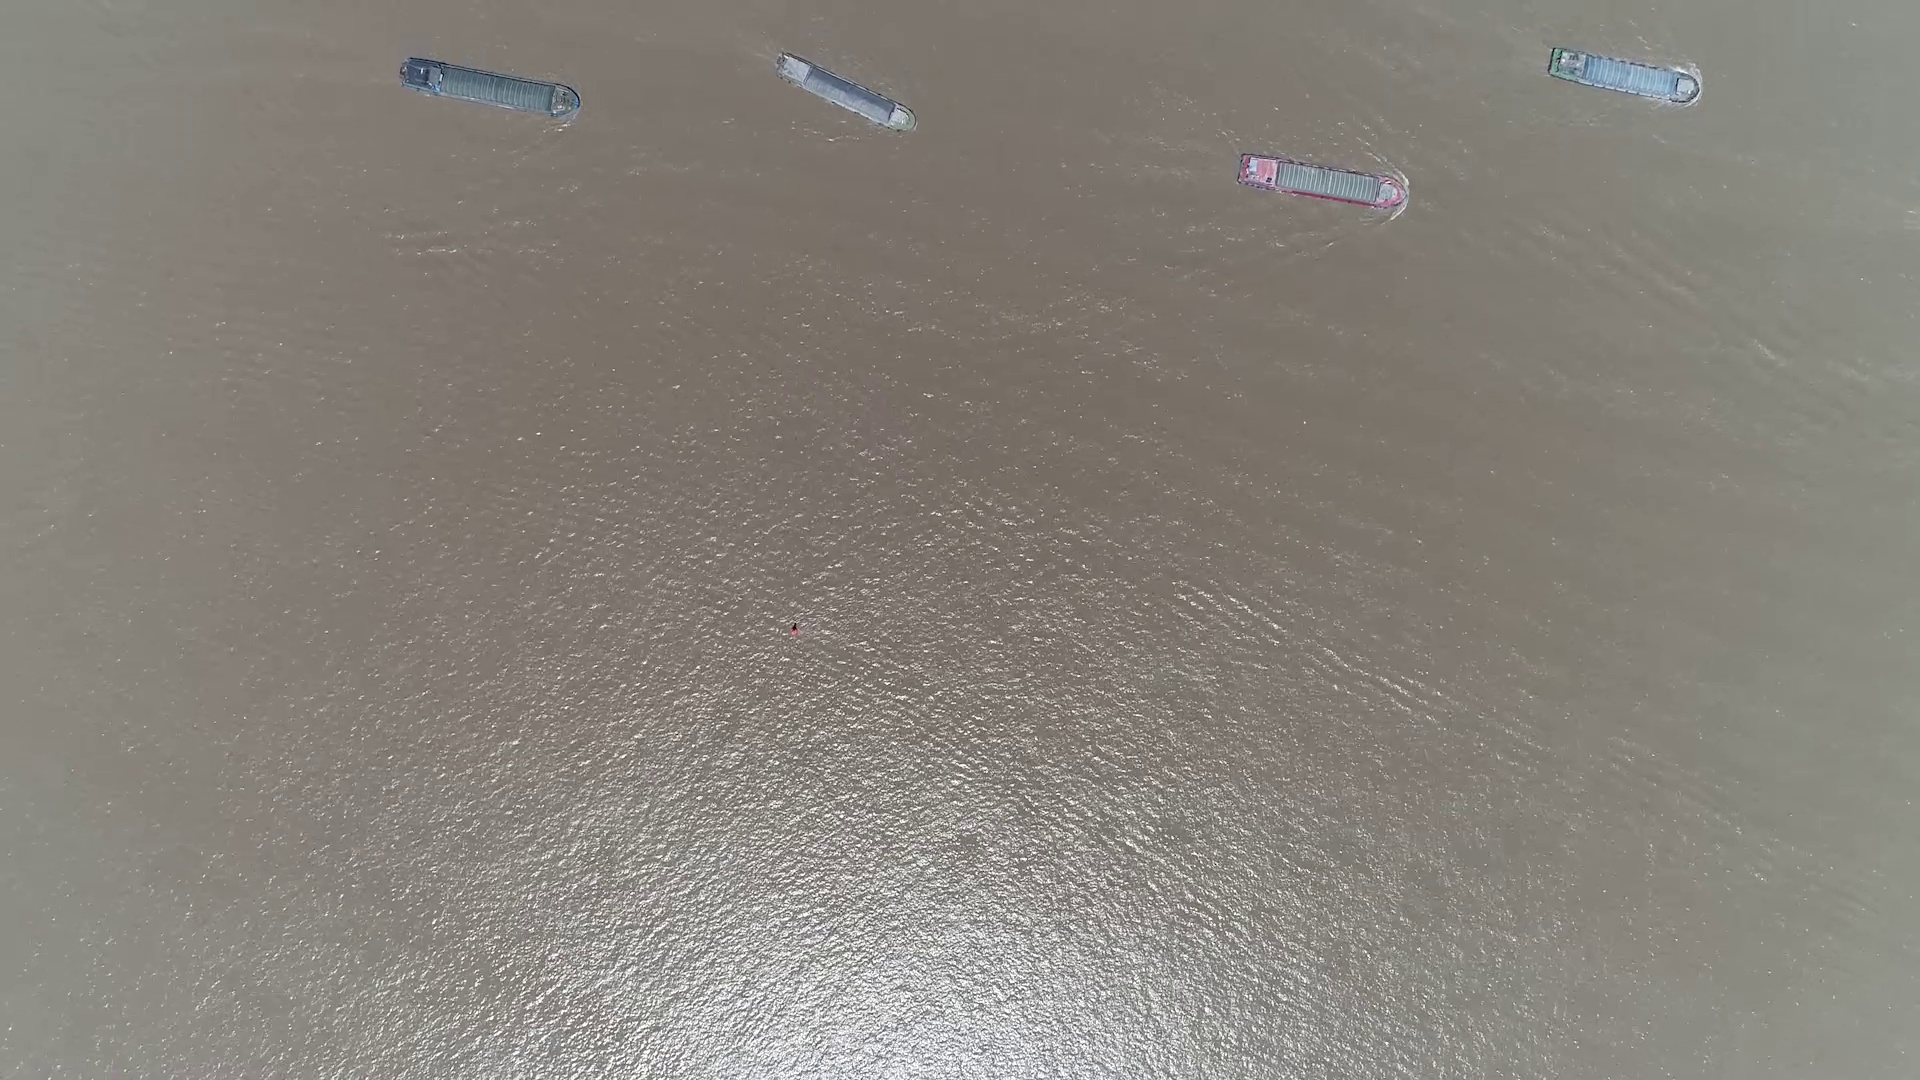ship: (400, 55, 580, 119), (773, 58, 913, 132), (1237, 153, 1410, 211), (1543, 51, 1700, 102)
